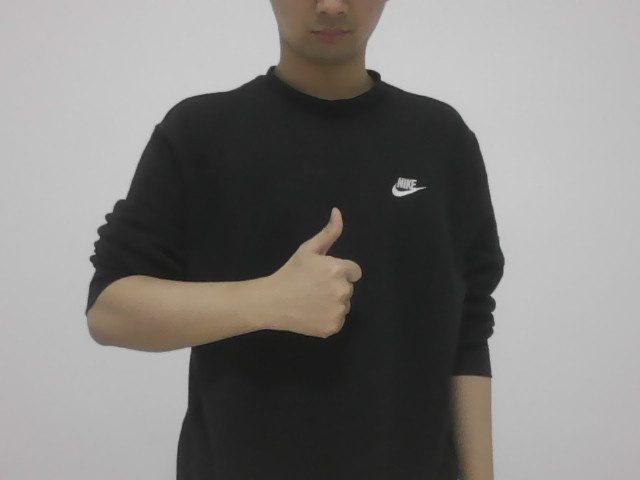good: (258, 195, 389, 352)
